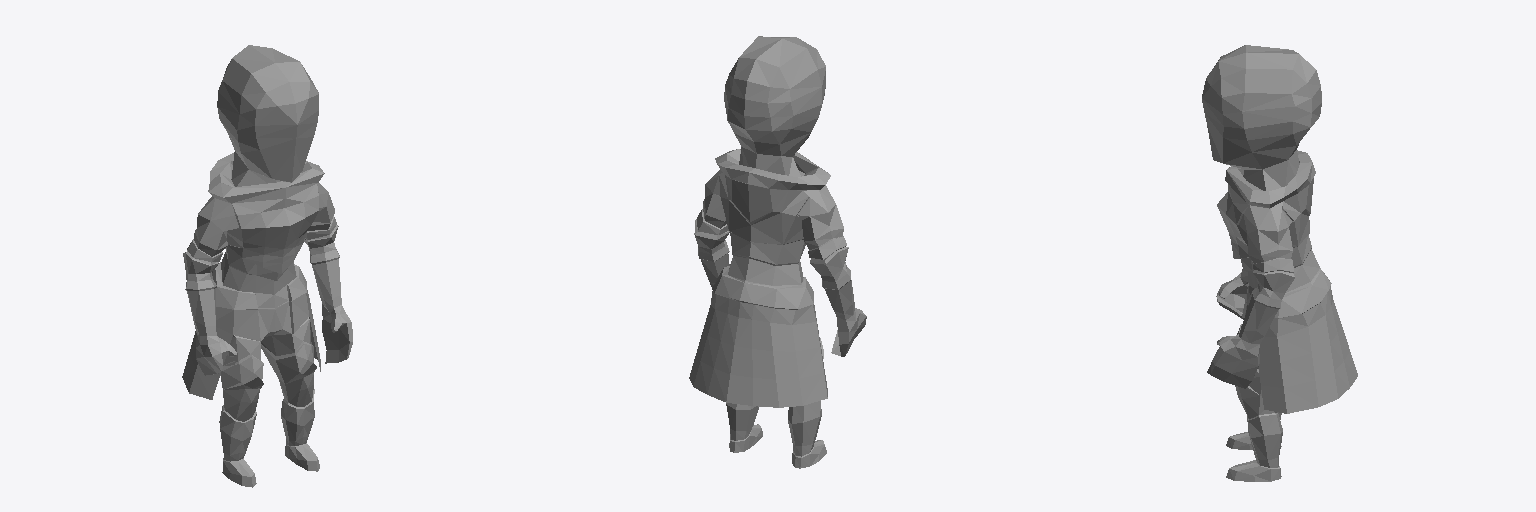
Rendered from Warrior_Body__ncl1_29.obj.
3 renders of one model, left to right at view 1: azimuth 30°, elevation 25°; view 2: azimuth 150°, elevation 25°; view 3: azimuth 270°, elevation 25°, orthographic.
Visible parts, largest first — view 1: Warrior_Body__ncl1_29.005; view 2: Warrior_Body__ncl1_29.005; view 3: Warrior_Body__ncl1_29.005.
Boxes of the visible parts, box(x1,y1,x2,y2) form: Warrior_Body__ncl1_29.005: box(182, 45, 352, 487); Warrior_Body__ncl1_29.005: box(689, 36, 866, 468); Warrior_Body__ncl1_29.005: box(1202, 45, 1357, 481).
Size of the model in its own units: 1.12 by 2.86 by 0.9906.